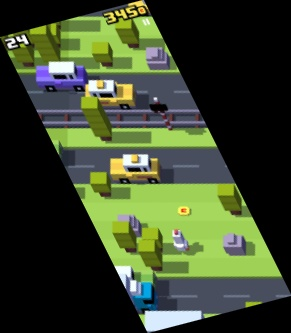car: (35, 61, 89, 92), (108, 155, 162, 185), (85, 79, 136, 110), (99, 266, 157, 293), (24, 139, 65, 166)
coin: (177, 206, 193, 217)
duck: (171, 230, 190, 251)
light off: (150, 96, 173, 132)
rail: (31, 105, 215, 130)
rock: (113, 213, 141, 236), (145, 46, 171, 70), (222, 233, 245, 254)
tree: (28, 26, 61, 66), (216, 185, 244, 215), (138, 241, 162, 272), (115, 19, 139, 50), (9, 36, 33, 66), (113, 221, 136, 252), (90, 172, 112, 197), (91, 43, 113, 68), (142, 229, 164, 253), (42, 24, 61, 47), (14, 27, 32, 50)
truck: (86, 275, 161, 315), (145, 311, 229, 333)
